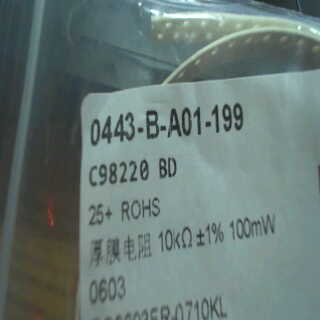10kR: (155, 222, 198, 253)
